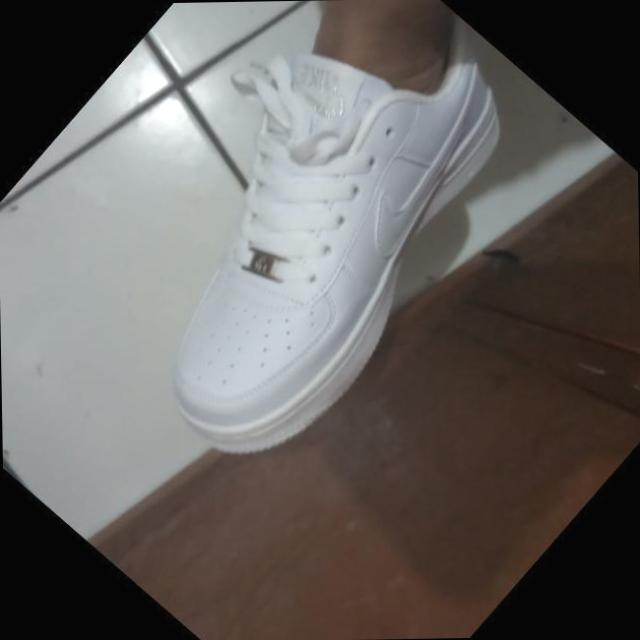nike_fake_airforce: (58, 0, 588, 497)
